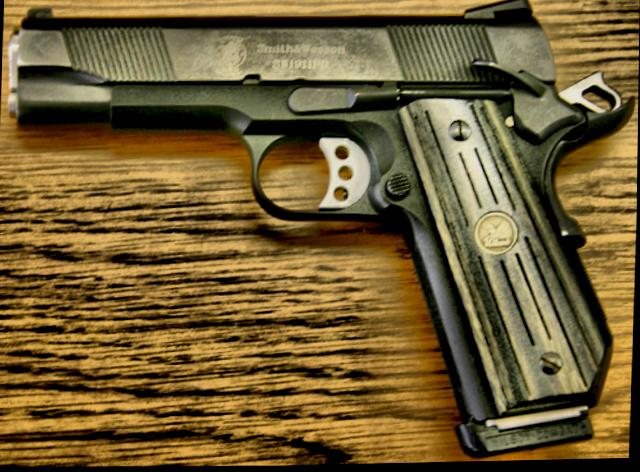pistol: (0, 0, 632, 469)
